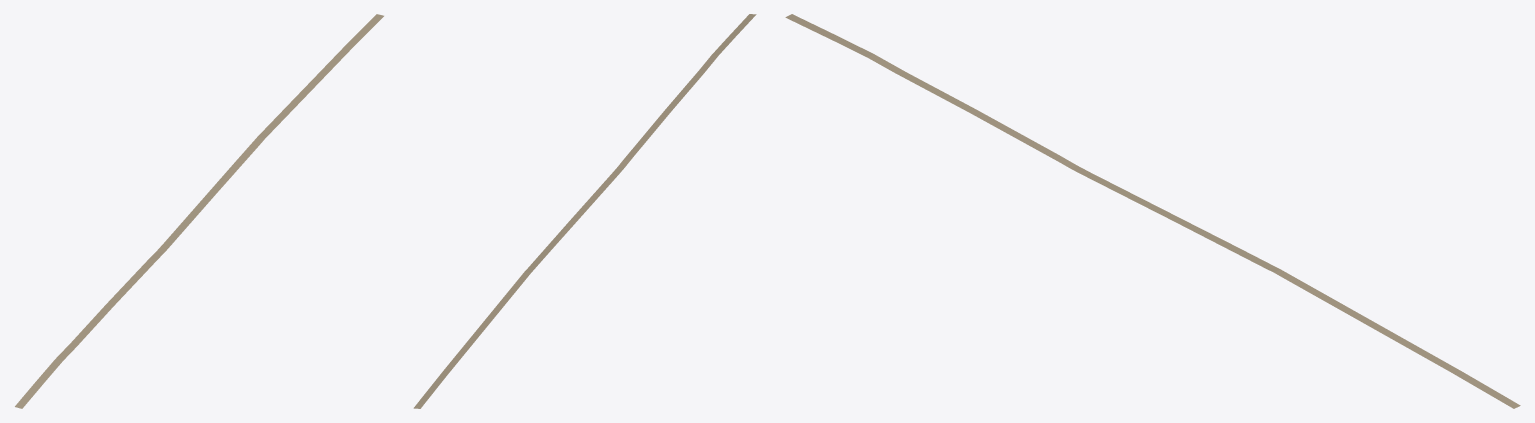
File: farm_1_1_track.glb
The picture shows the model from 3 angles, left to right: view 1: azimuth 30°, elevation 25°; view 2: azimuth 210°, elevation 25°; view 3: azimuth 270°, elevation 25°; orthographic projection. The views are drawn at different scales.
Parts seen in each view (by area): view 1: geometry_0; view 2: geometry_0; view 3: geometry_0.
Boxes of the visible parts, bbox=[...] form: geometry_0: bbox=[15, 14, 383, 408]; geometry_0: bbox=[413, 14, 756, 408]; geometry_0: bbox=[785, 14, 1520, 408].
Size of the model in its own units: 317 by 8.09 by 262.
